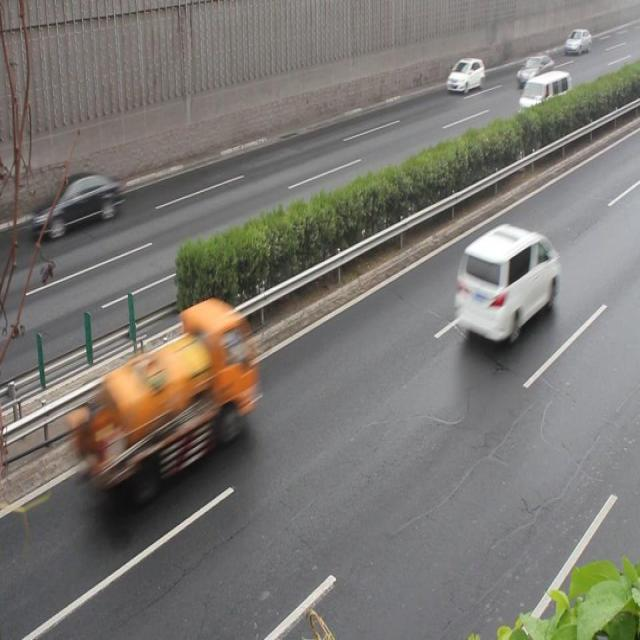car: (453, 222, 559, 339), (36, 171, 121, 236), (444, 54, 481, 92), (513, 51, 551, 86)
